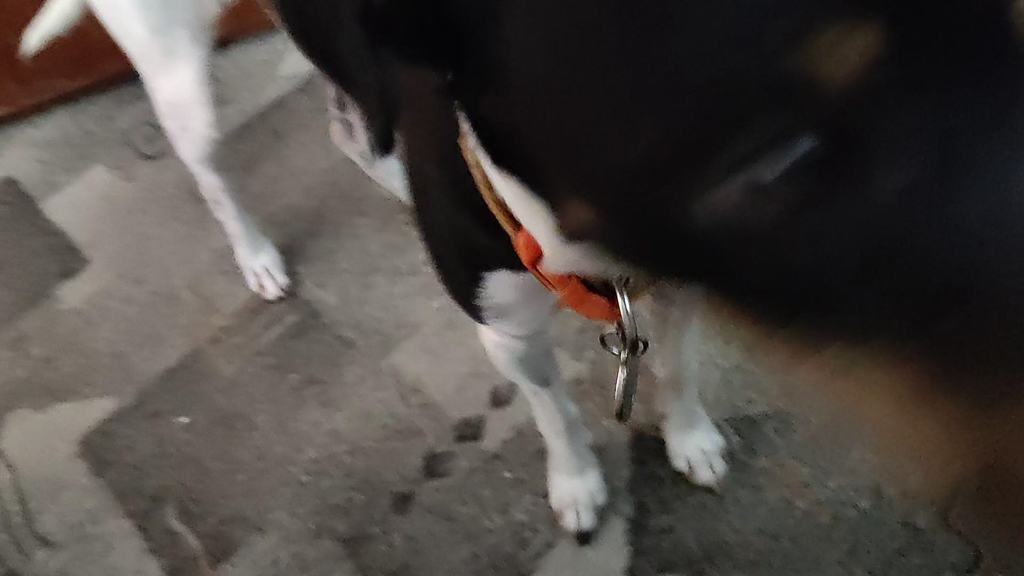Dog: (16, 0, 1024, 565)
